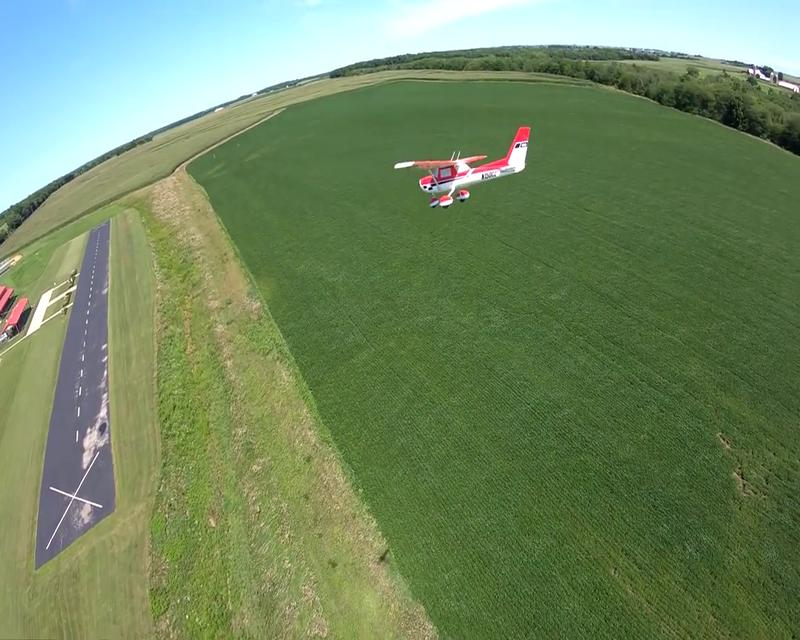UAV: (394, 127, 536, 208)
